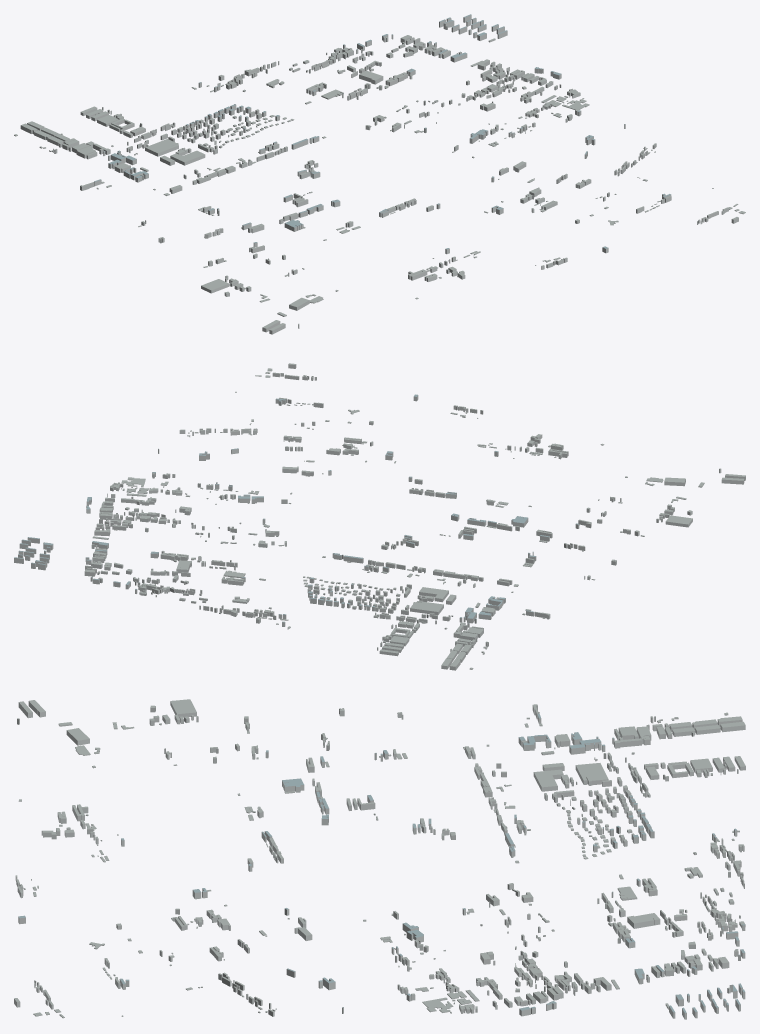
The picture shows the model from 3 angles, top to bottom: view 1: azimuth 30°, elevation 25°; view 2: azimuth 150°, elevation 25°; view 3: azimuth 270°, elevation 25°; orthographic projection. The views are drawn at different scales.
Visible parts, largest first — view 1: 上海全域建筑分块 · mapped building neighborhood; view 2: 上海全域建筑分块 · mapped building neighborhood; view 3: 上海全域建筑分块 · mapped building neighborhood.
Boxes of the visible parts, x1,y1,x2,y2 form: 上海全域建筑分块 · mapped building neighborhood: (14,14,745,334); 上海全域建筑分块 · mapped building neighborhood: (14,363,745,670); 上海全域建筑分块 · mapped building neighborhood: (14,699,745,1019).
Bounding box in the file's own units: 2156 × 23.49 × 2107.
